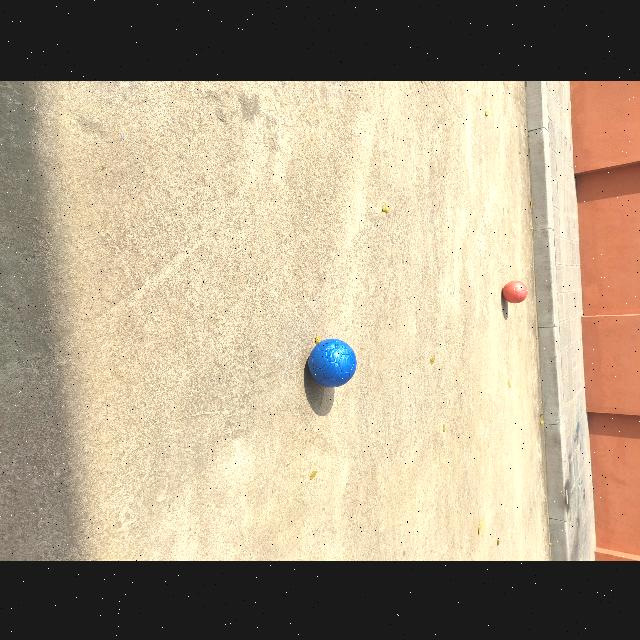B: (307, 338, 356, 386)
R: (502, 279, 528, 303)
